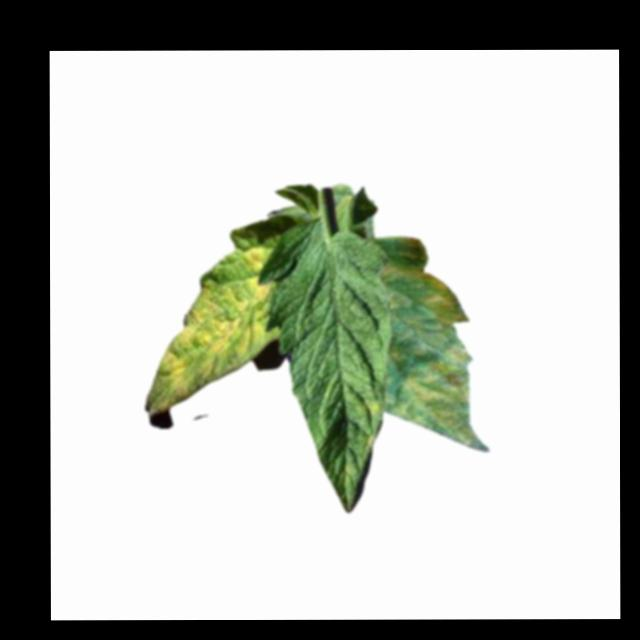Leaf_Mold: (143, 247, 280, 419), (383, 236, 487, 454), (358, 403, 383, 447)
